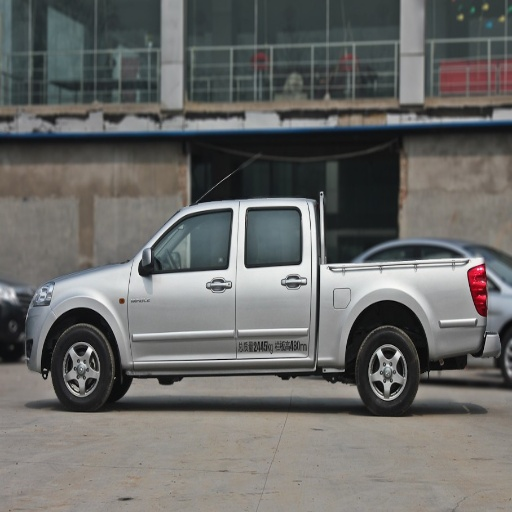back_left_door: (237, 203, 312, 354)
front_left_door: (132, 206, 241, 361)
trunk: (318, 260, 475, 363)
